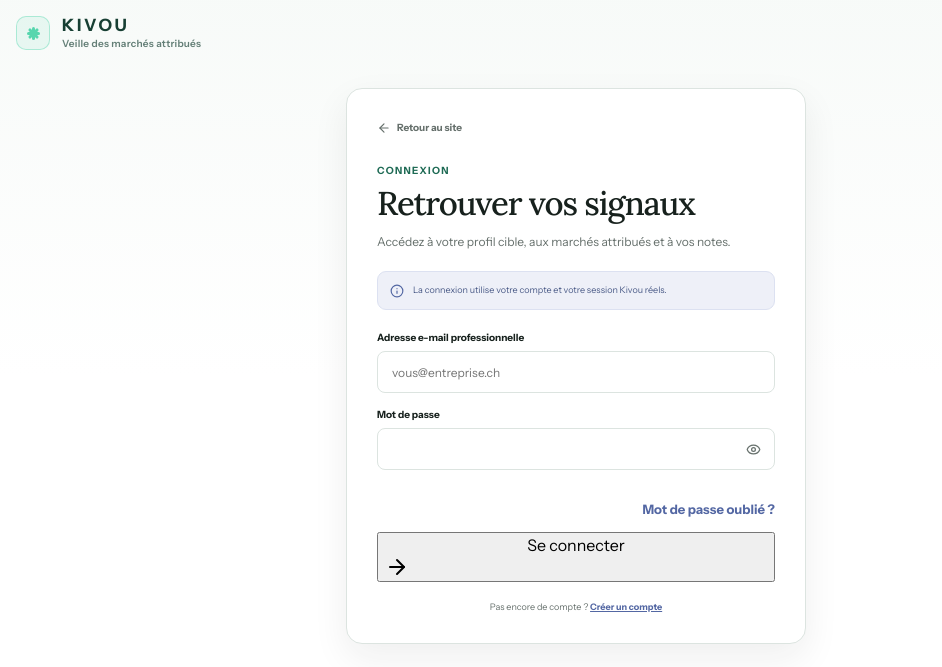
connexion › conduit un compte incomplet vers la confirmation plutôt que vers le feed
In the field labelled "Adresse e-mail professionnelle": (576, 372) [377,351,775,393], type "claire@acme.test"
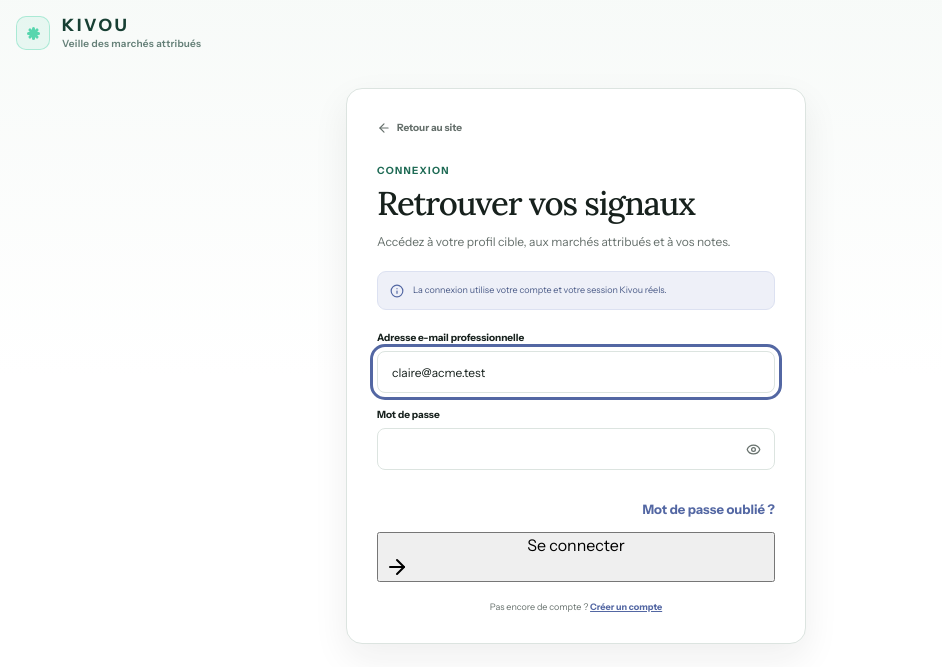
In the password field labelled "Mot de passe": (576, 449) [377,428,775,470], type "motdepassesolide"
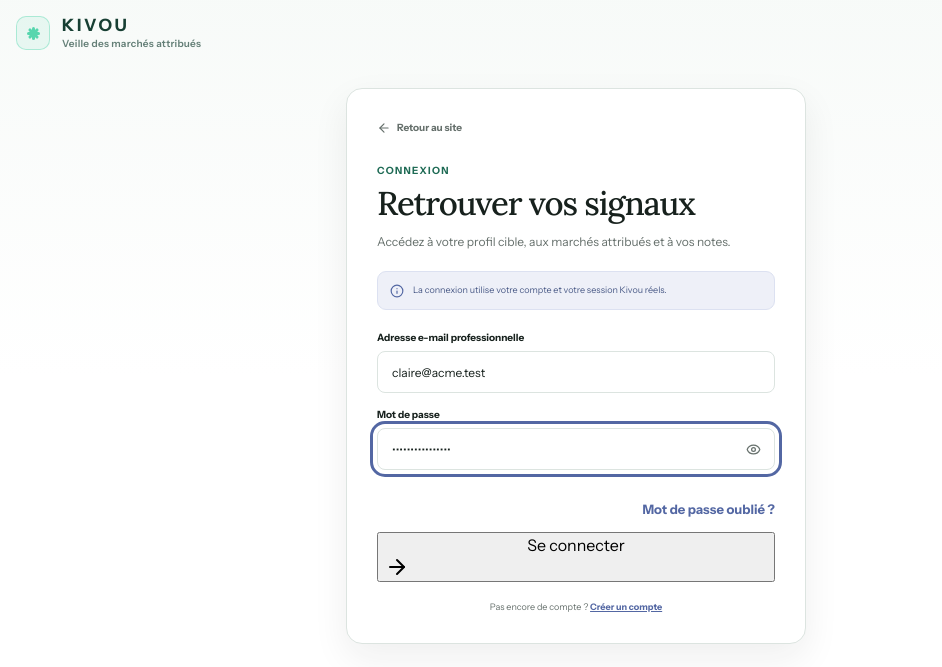
Click the button "Se connecter": (576, 557) [377,532,775,582]
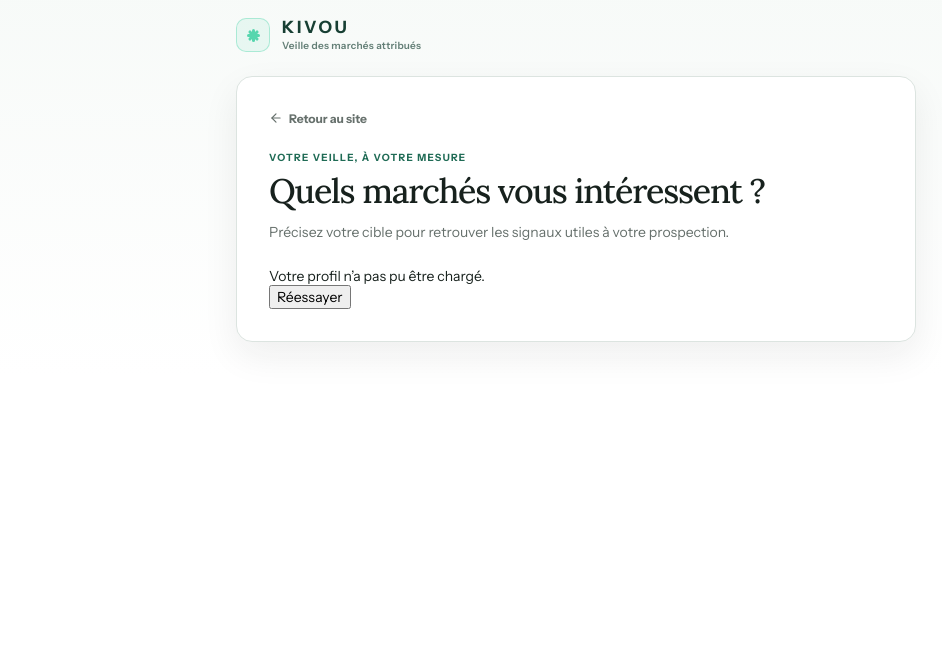
Now the heading "Quels marchés vous intéressent ?" is shown, box [269,169,765,212]
